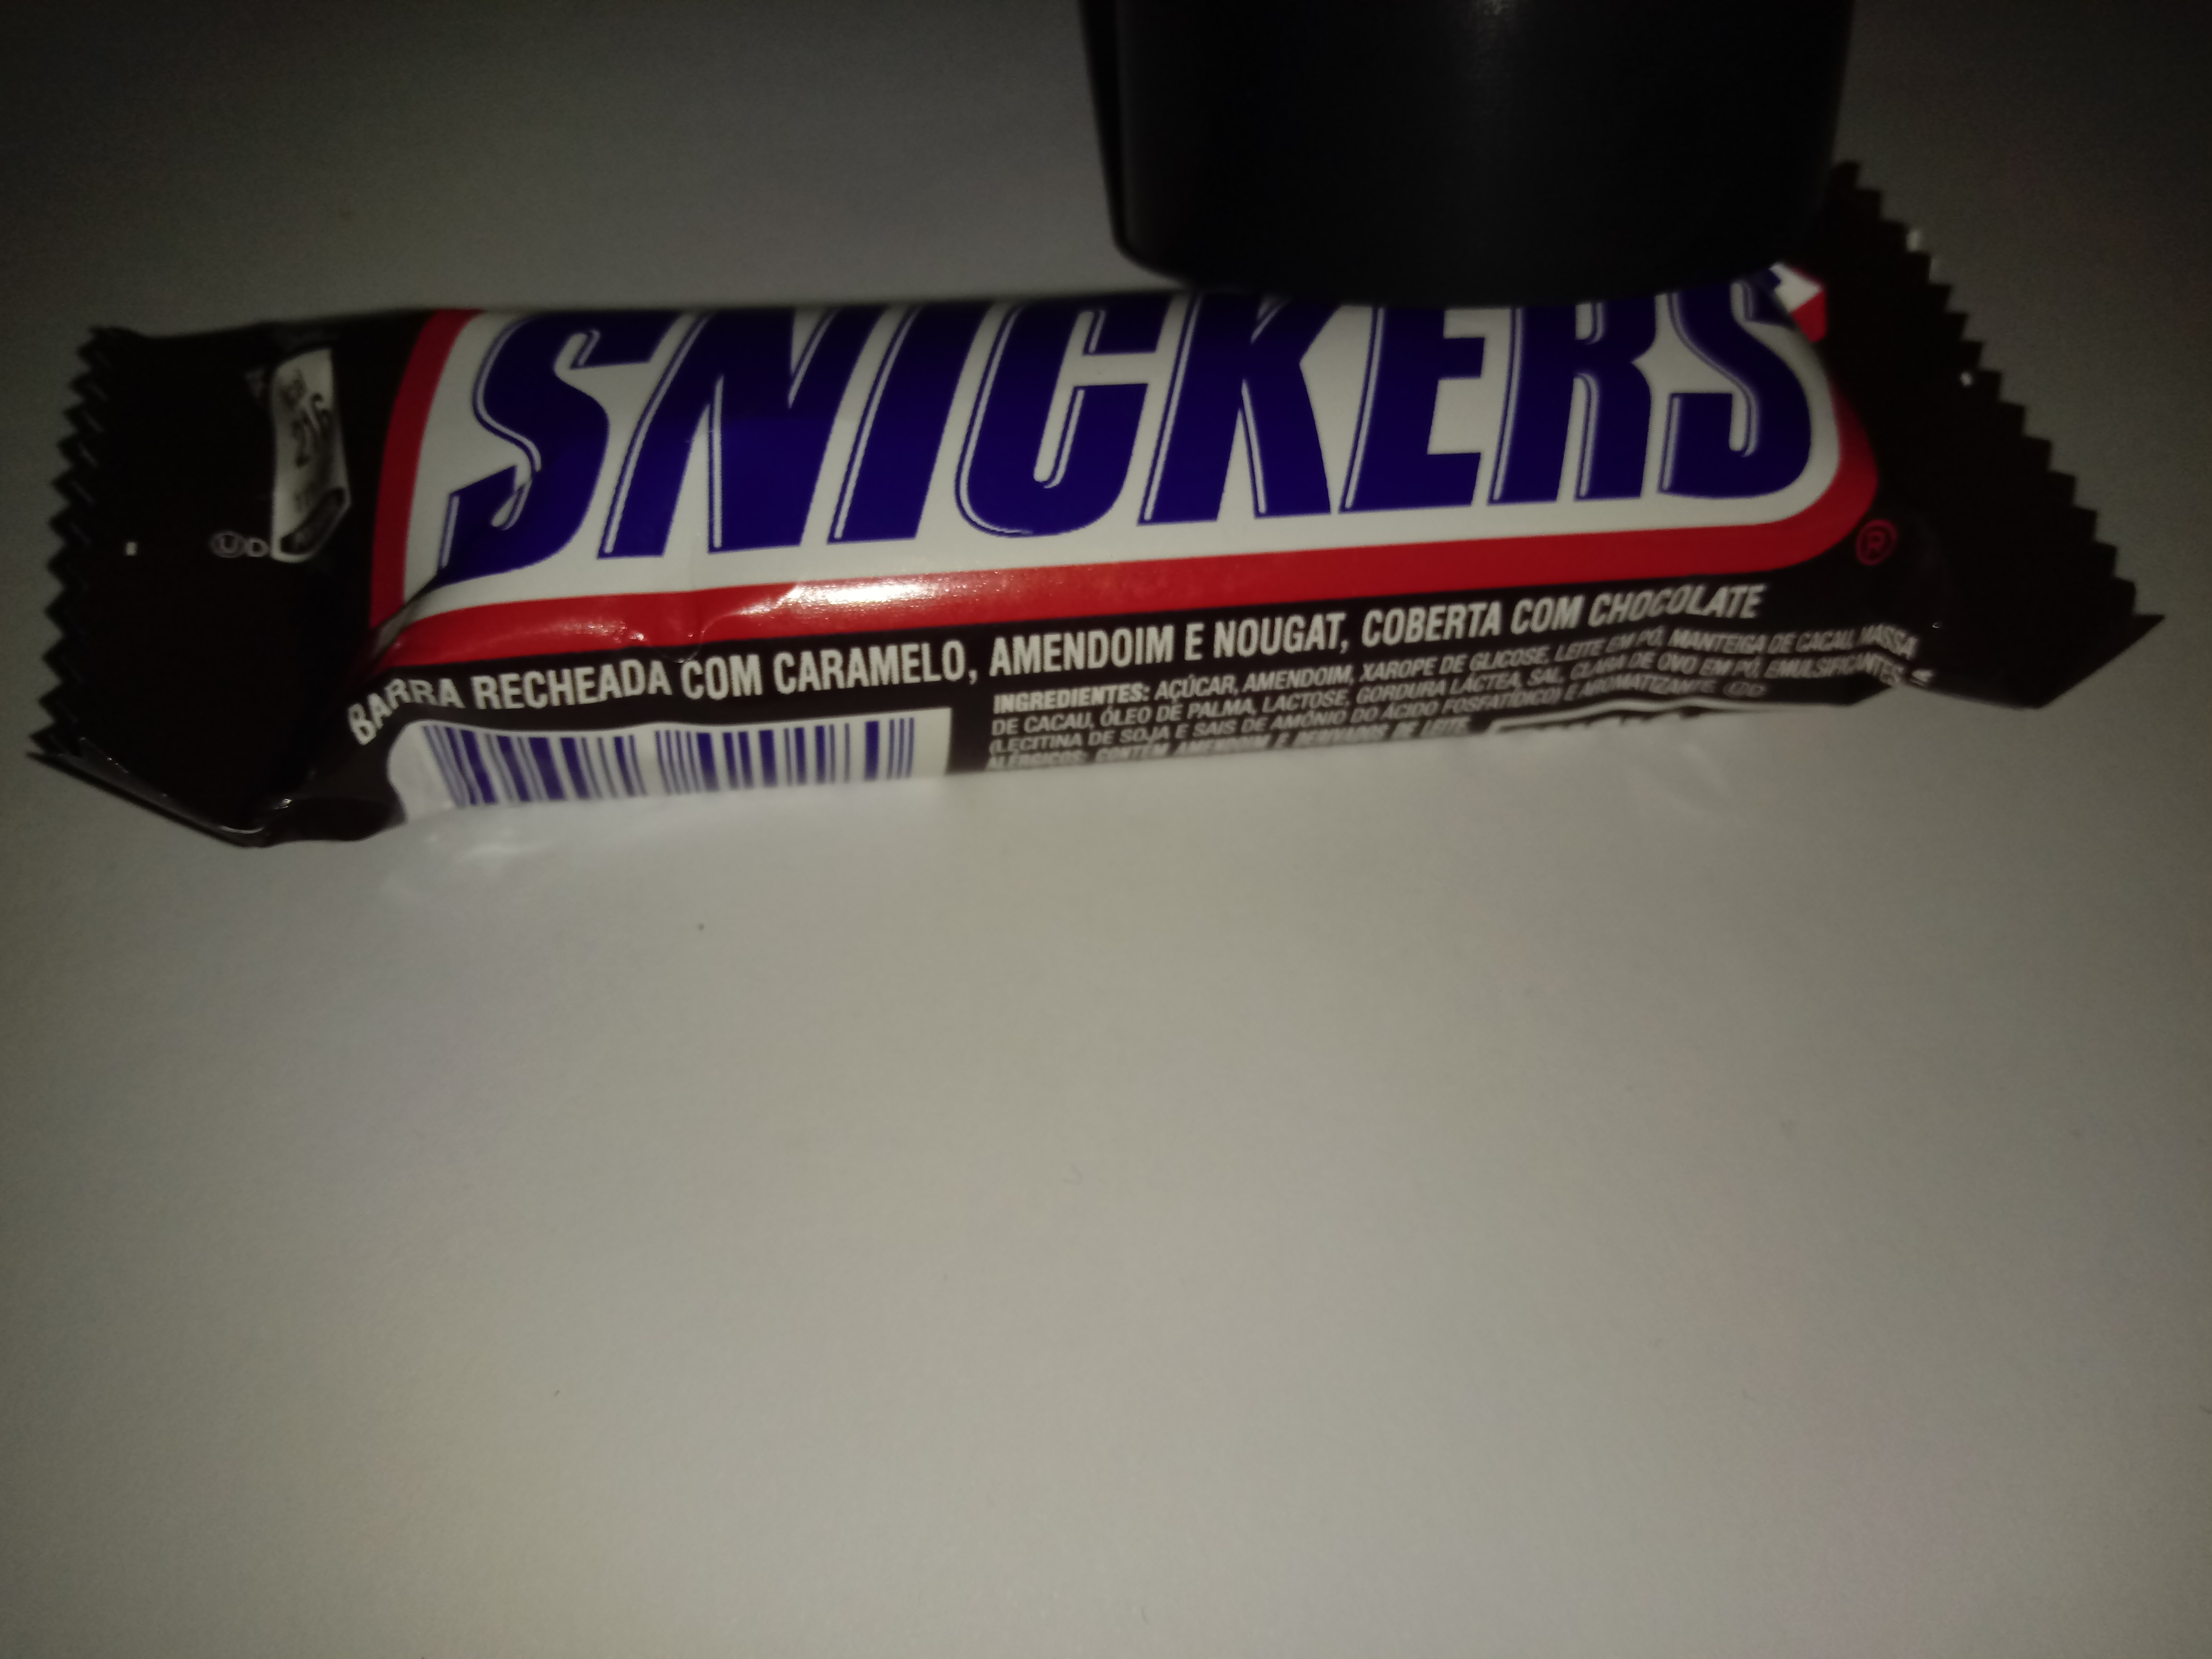snickers: (35, 148, 2210, 857)
